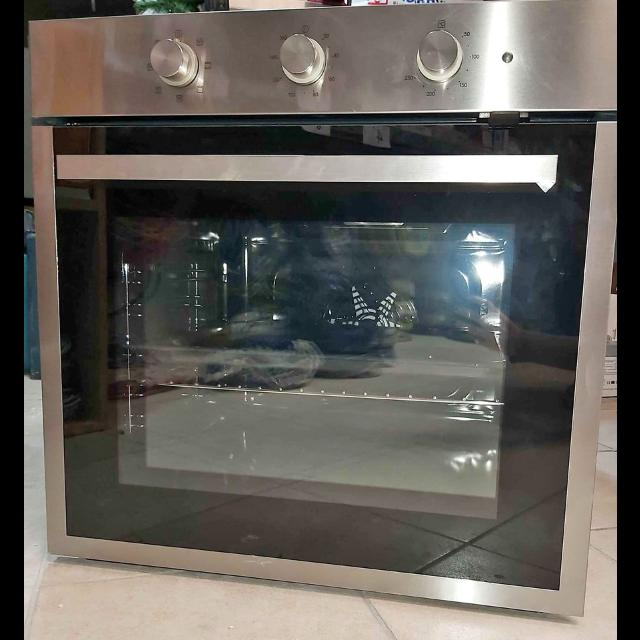Oven: (31, 2, 600, 620)
